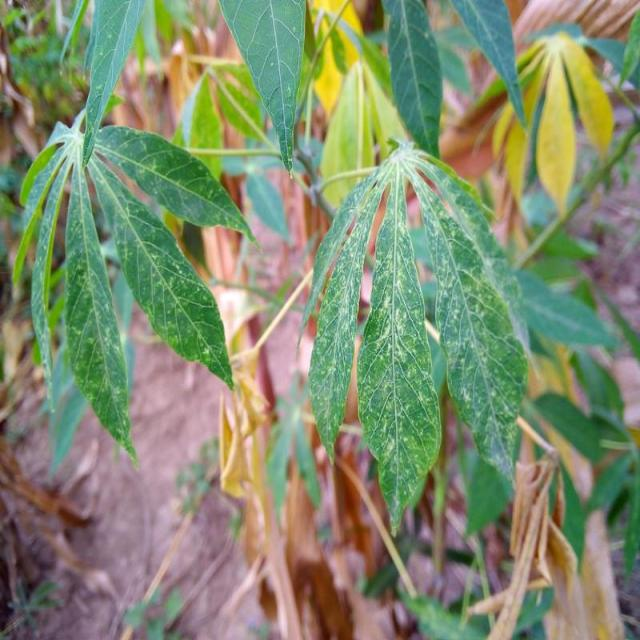cassava leaf: (300, 140, 530, 533), (356, 160, 443, 535), (218, 0, 308, 175)
